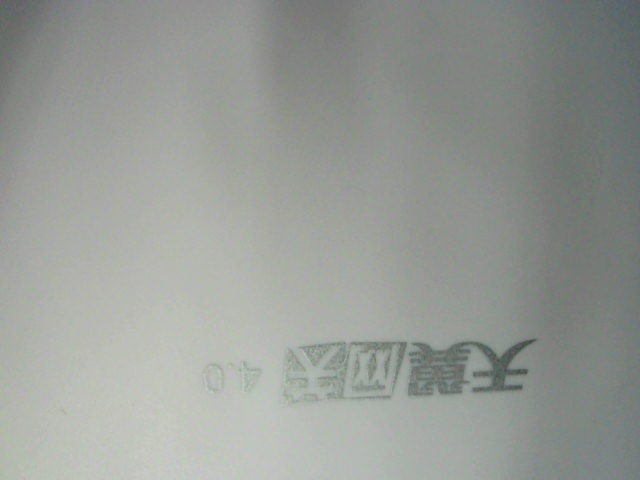BM_TianYiWangGuan: (187, 322, 543, 403)
